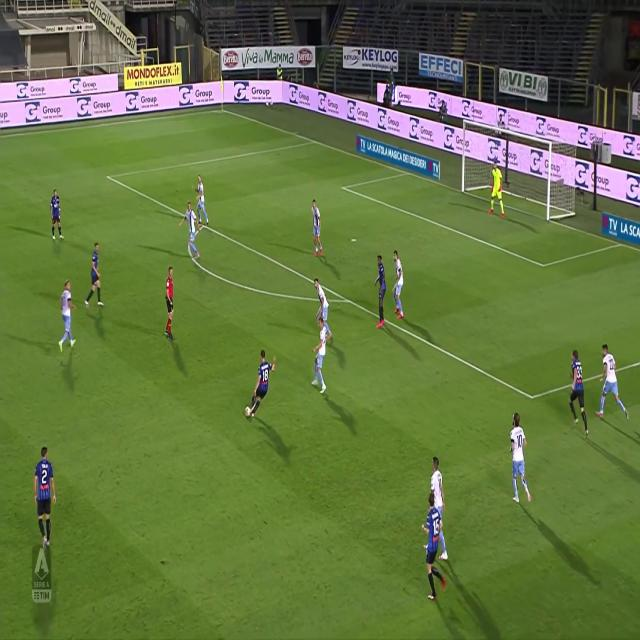ball: (243, 404, 250, 418)
team1: (419, 491, 448, 603), (36, 448, 57, 548), (568, 346, 590, 440), (83, 234, 107, 312), (251, 348, 275, 420), (372, 254, 390, 331), (49, 190, 64, 244)
team2: (595, 340, 631, 429), (426, 444, 452, 564), (506, 405, 535, 511), (180, 200, 204, 266), (308, 273, 332, 335), (310, 324, 330, 398), (58, 276, 76, 352), (393, 248, 410, 322), (309, 196, 325, 262), (196, 174, 212, 229)
